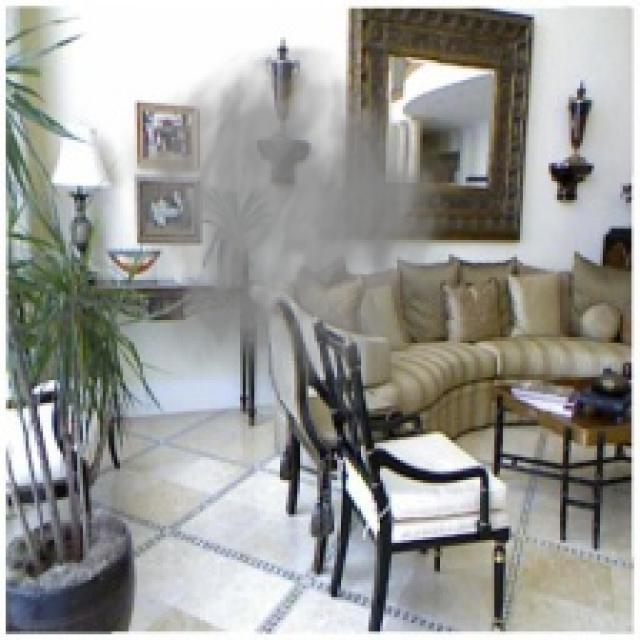Smoke: (120, 42, 474, 432)
